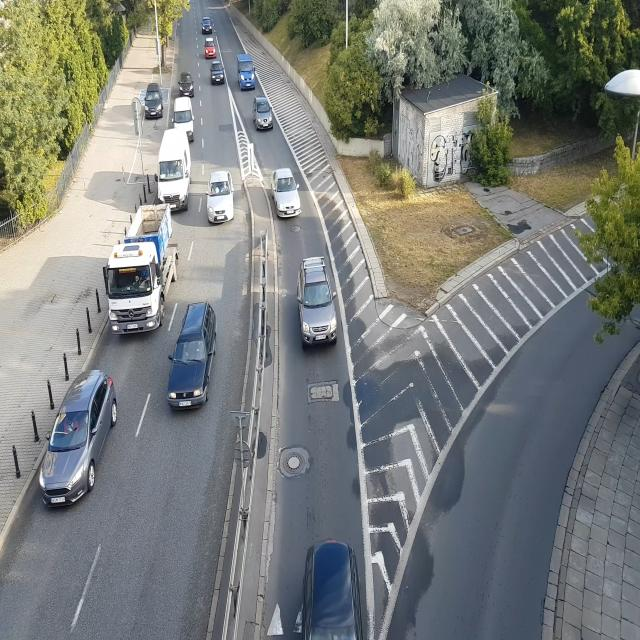car: (38, 372, 118, 508), (167, 304, 218, 413), (299, 259, 339, 344), (157, 126, 193, 212), (208, 170, 237, 224), (273, 168, 303, 218), (252, 96, 274, 131), (173, 97, 195, 132), (176, 66, 195, 99), (144, 89, 165, 118), (238, 56, 257, 88), (203, 38, 218, 61), (212, 62, 227, 83), (200, 19, 213, 33)
truck: (101, 210, 176, 334)
